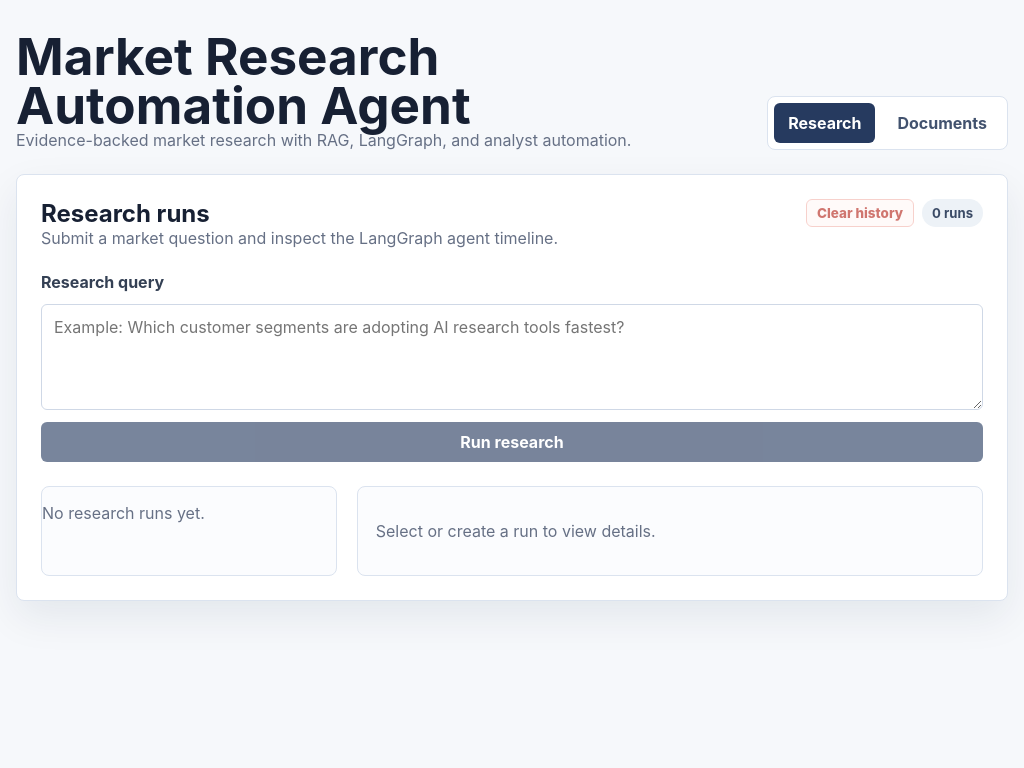
Test case: App › shows a friendly message when research creation is rate limited
Type "Analyze AI adoption" into the text box labelled "Research query" at {"x": 512, "y": 357}, box [41,304,983,410]
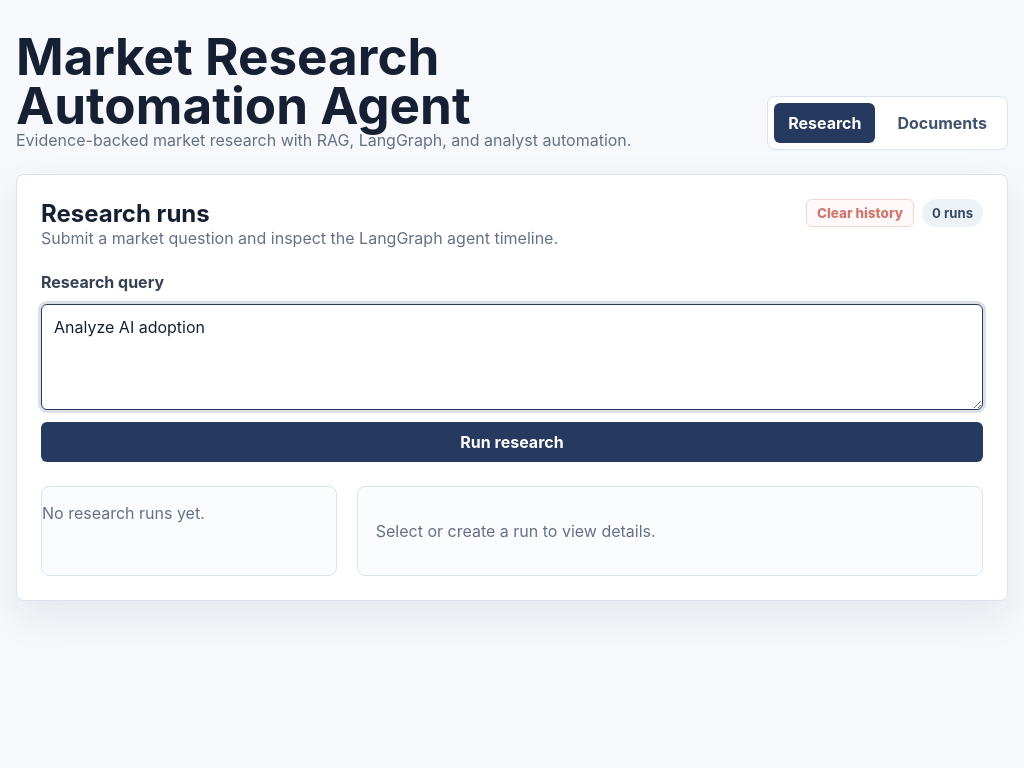
Click the button "Run research" at {"x": 512, "y": 442}, box [41,422,983,462]
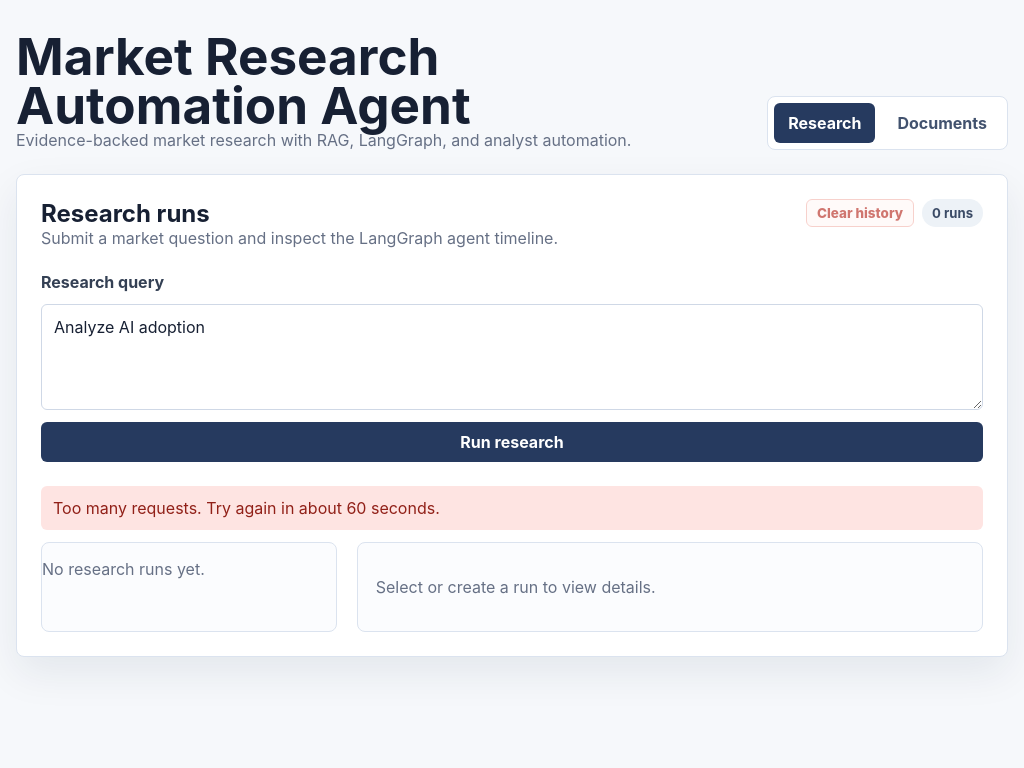
Expected: the text "Too many requests. Try again in about 60 seconds." is shown, [41,486,983,530]
